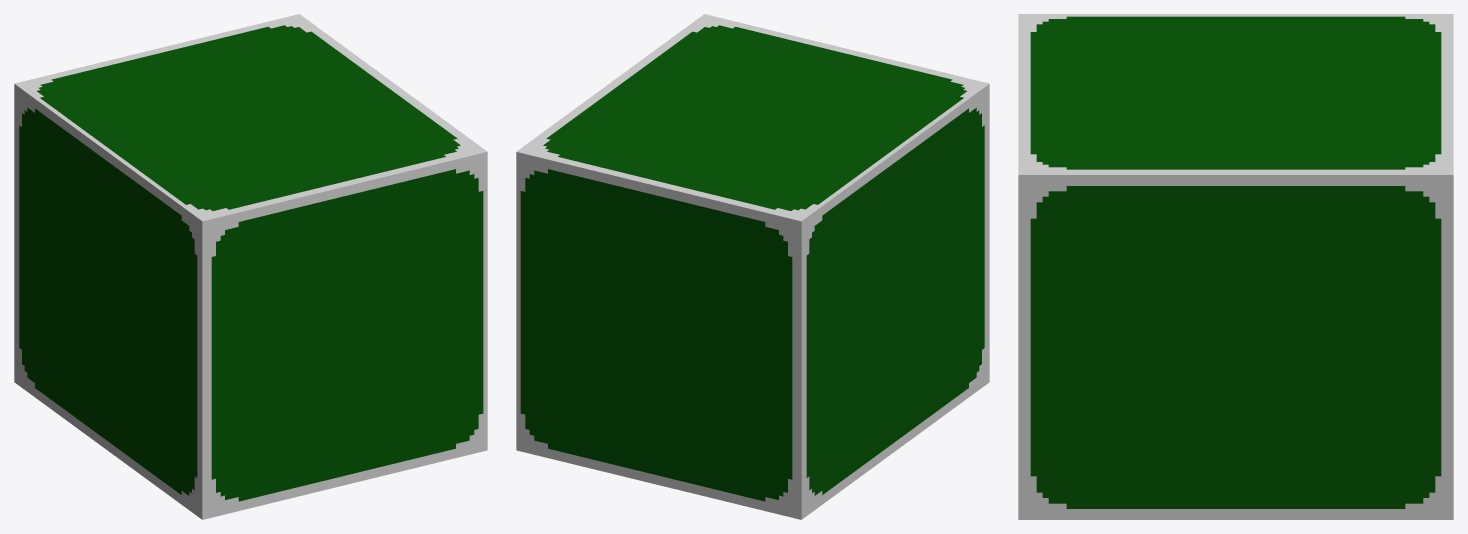
The model's file is house_simple_green_cube.glb.
3 renders of one model, left to right at view 1: azimuth 30°, elevation 25°; view 2: azimuth 150°, elevation 25°; view 3: azimuth 270°, elevation 25°, orthographic. The views are drawn at different scales.
Parts seen in each view (by area): view 1: house_simple_green_cube.001; view 2: house_simple_green_cube.001; view 3: house_simple_green_cube.001.
Part boxes in pixels (x1,y1,x2,y2): house_simple_green_cube.001: (14, 14, 487, 519); house_simple_green_cube.001: (516, 14, 989, 519); house_simple_green_cube.001: (1018, 14, 1453, 519).
Bounding box in the file's own units: 6.3 × 6.3 × 7.2.
1 material, 1 textured.
